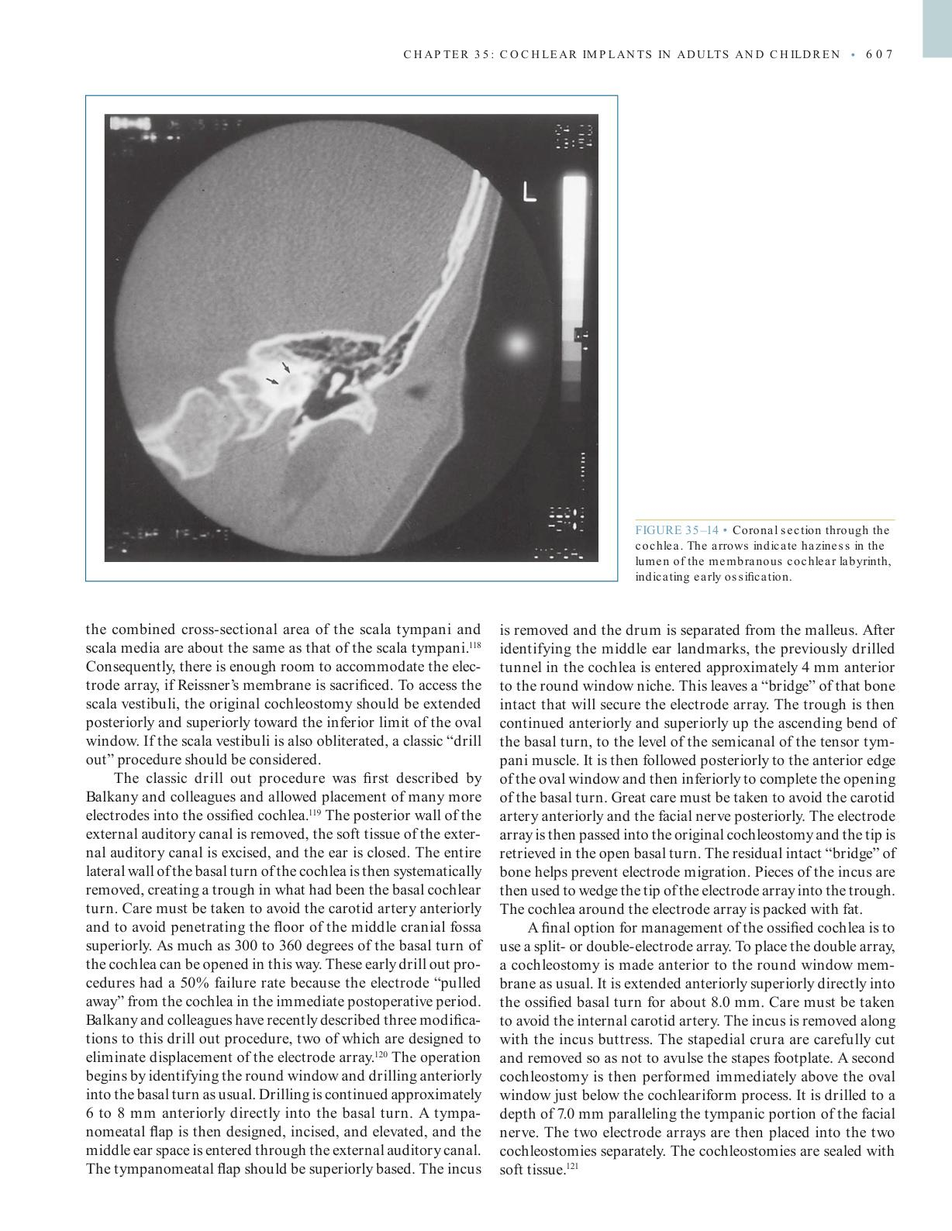caption: (634, 523, 893, 586)
header: (401, 45, 842, 62)
image: (92, 101, 612, 575)
text: (82, 617, 485, 1180), (495, 620, 899, 1180)
